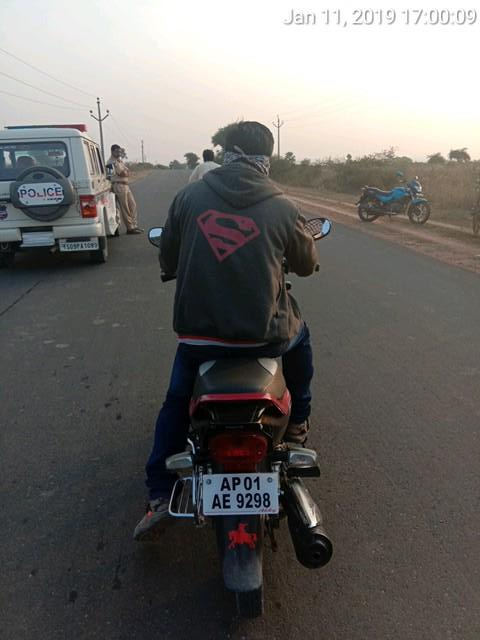plate: (204, 468, 281, 517)
